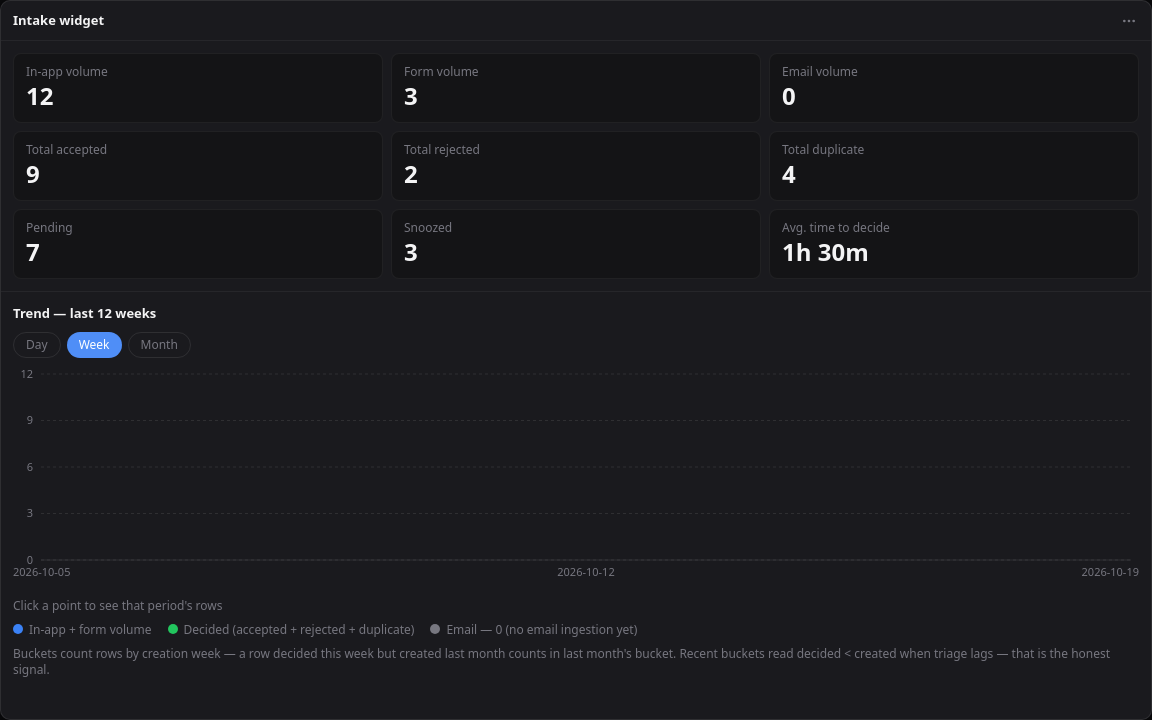
WidgetCard intake trend (C86T1) › Day toggle refetches with granularity day and fixed 12 buckets
The image size is (1152, 720).
Check: the heading "Trend — last 12 weeks" is shown, box x1=13 y1=304 x2=156 y2=322
Click the button "Day": {"x": 37, "y": 344} x1=13 y1=332 x2=61 y2=358
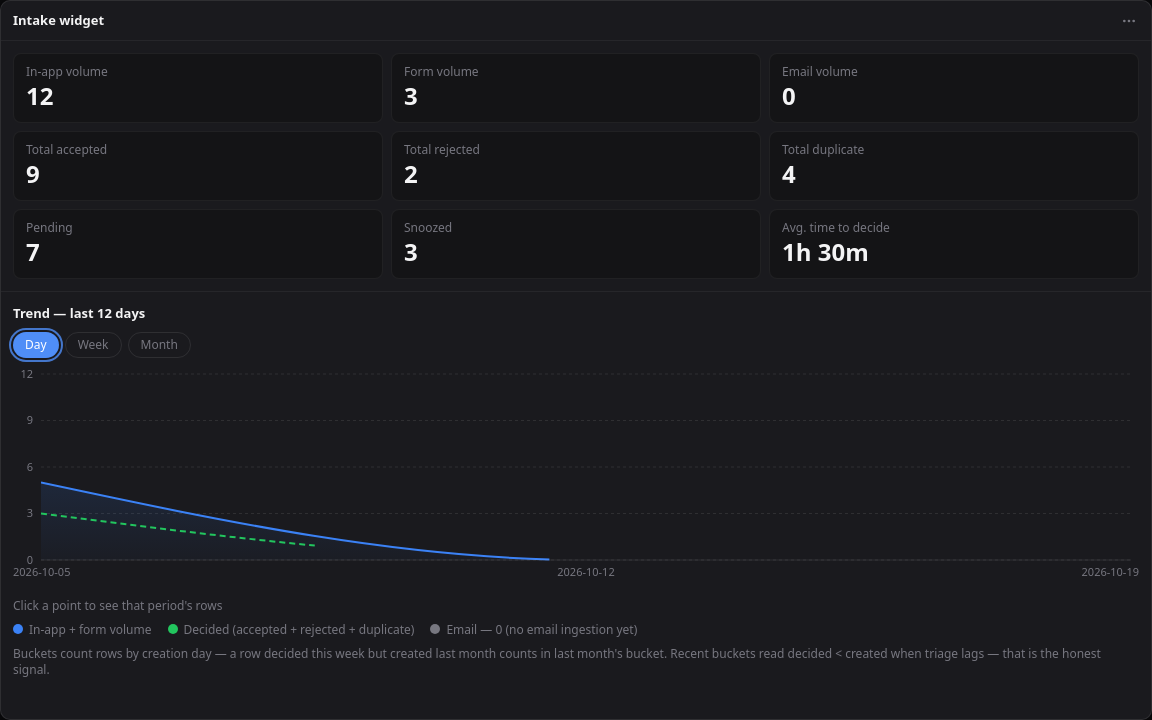
Check: the heading "Trend — last 12 days" is shown, box x1=13 y1=304 x2=145 y2=322
